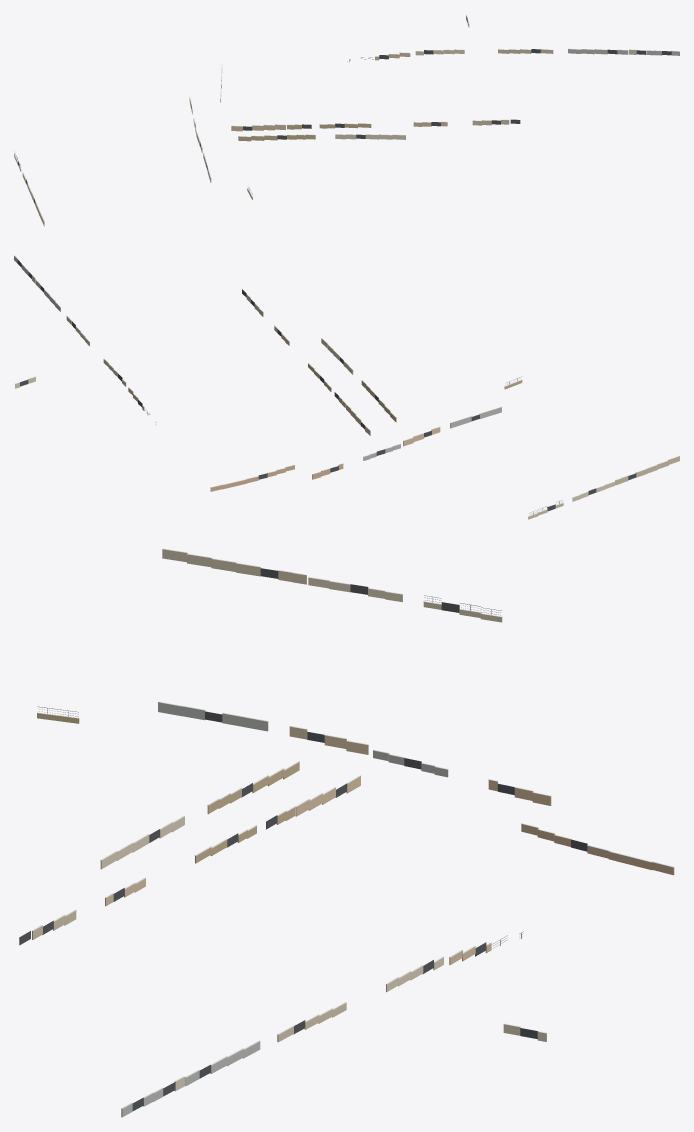
The picture shows the model from 3 angles, top to bottom: view 1: azimuth 30°, elevation 25°; view 2: azimuth 150°, elevation 25°; view 3: azimuth 270°, elevation 25°; orthographic projection. The views are drawn at different scales.
Visible parts, largest first — view 1: nd_st_m13_m14_lod0; view 2: nd_st_m13_m14_lod0; view 3: nd_st_m13_m14_lod0.
Part boxes in pixels (x1,y1,x2,y2): nd_st_m13_m14_lod0: (14,14,679,226); nd_st_m13_m14_lod0: (14,255,679,519); nd_st_m13_m14_lod0: (19,548,674,1117).
Size of what is drawn, in the model's own units: 255 by 15.39 by 115.
